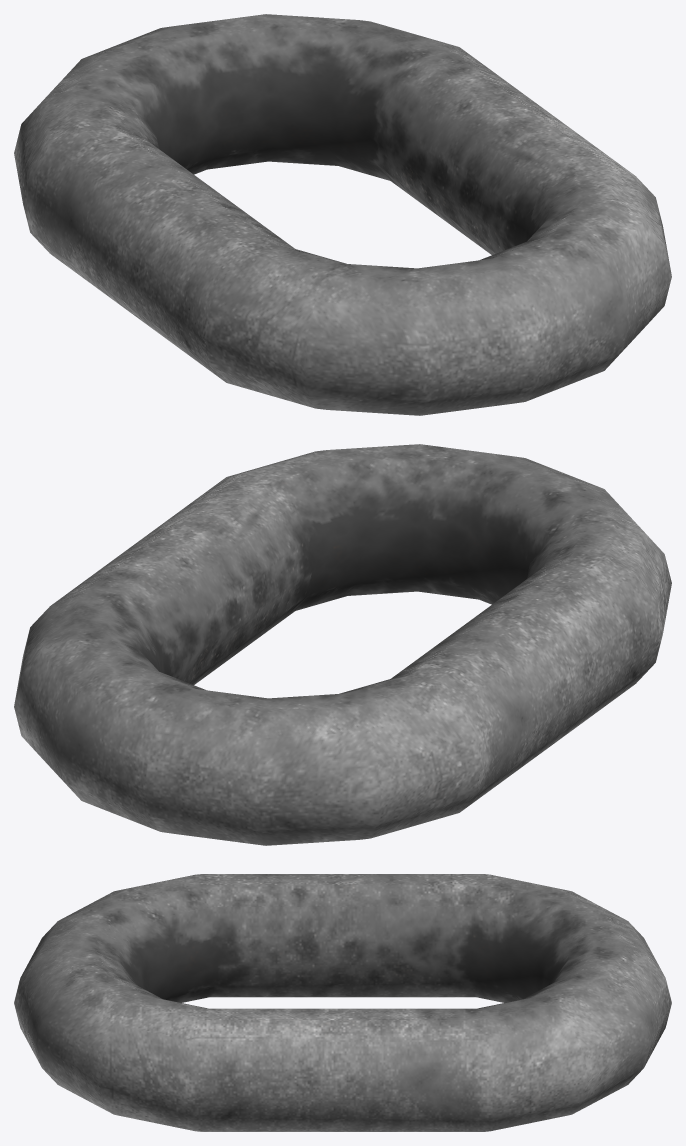
The picture shows the model from 3 angles, top to bottom: view 1: azimuth 30°, elevation 25°; view 2: azimuth 150°, elevation 25°; view 3: azimuth 270°, elevation 25°; orthographic projection. The views are drawn at different scales.
Parts seen in each view (by area): view 1: Link; view 2: Link; view 3: Link.
Boxes of the visible parts, left/top/right/bottom form: Link: left=14, top=14, right=671, bottom=415; Link: left=14, top=444, right=671, bottom=845; Link: left=14, top=874, right=671, bottom=1131.
Size of the model in its own units: 1.91 by 0.5311 by 2.84.
